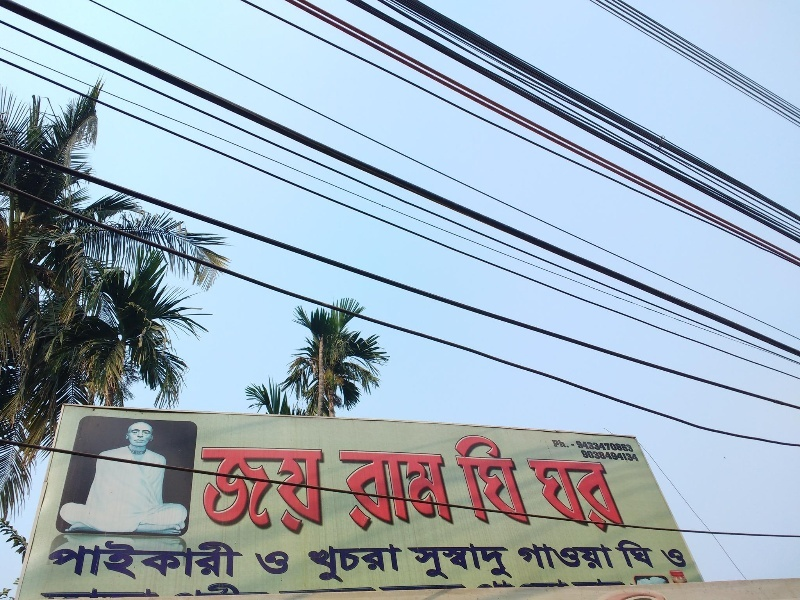text: (465, 434, 480, 526), (481, 434, 496, 526), (497, 434, 512, 526), (513, 434, 528, 526), (209, 446, 224, 536), (225, 446, 240, 536), (241, 446, 256, 536), (257, 446, 272, 536), (273, 446, 288, 536), (289, 446, 304, 536), (305, 446, 320, 536), (353, 451, 368, 532), (369, 451, 384, 532), (385, 451, 400, 532), (401, 451, 416, 532), (417, 451, 432, 532), (433, 451, 448, 532), (451, 434, 464, 526), (529, 457, 544, 536), (545, 457, 560, 536), (561, 457, 576, 536), (577, 457, 592, 536), (593, 457, 608, 536), (609, 457, 624, 536), (339, 451, 352, 532), (449, 451, 458, 532), (65, 537, 80, 581), (81, 537, 96, 581), (97, 537, 112, 581), (113, 537, 128, 581), (129, 537, 144, 581), (145, 537, 160, 581), (161, 537, 176, 581), (177, 537, 192, 581), (193, 537, 208, 581), (209, 537, 224, 581), (225, 537, 240, 581), (201, 446, 208, 536), (321, 544, 336, 583), (337, 544, 352, 583), (353, 544, 368, 583), (369, 544, 384, 583), (385, 544, 400, 583), (51, 537, 64, 581), (417, 543, 432, 581), (433, 543, 448, 581), (449, 543, 464, 581), (465, 543, 480, 581), (481, 543, 496, 581), (497, 543, 512, 581), (625, 457, 632, 536), (321, 446, 327, 536), (308, 544, 320, 583), (625, 539, 640, 570), (641, 539, 656, 570), (529, 434, 534, 526), (610, 539, 624, 570), (257, 549, 272, 576), (273, 549, 288, 576), (529, 543, 544, 570), (545, 543, 560, 570), (561, 543, 576, 570), (577, 543, 592, 570), (593, 543, 608, 570), (406, 543, 416, 581), (515, 543, 528, 570), (49, 577, 64, 600), (65, 577, 80, 600), (81, 577, 96, 600), (97, 577, 112, 600), (113, 577, 128, 600), (129, 577, 144, 600), (145, 577, 160, 600), (161, 577, 176, 600), (177, 577, 192, 600), (193, 577, 208, 600), (209, 577, 224, 600), (225, 577, 240, 600), (241, 577, 256, 600), (257, 577, 272, 600), (273, 577, 288, 600), (289, 577, 304, 600), (305, 577, 320, 600), (321, 577, 336, 600), (337, 577, 352, 600), (353, 577, 368, 600), (369, 577, 384, 600), (385, 577, 400, 600), (401, 577, 416, 600), (417, 577, 432, 600), (433, 577, 448, 600), (449, 577, 464, 600), (465, 577, 480, 600), (481, 577, 496, 600), (497, 577, 512, 600), (513, 577, 528, 600), (529, 577, 544, 600), (545, 577, 560, 600), (561, 577, 576, 600), (577, 577, 592, 600), (593, 577, 608, 600), (609, 577, 624, 600), (524, 457, 528, 536), (673, 549, 689, 568), (609, 543, 620, 570), (37, 577, 48, 600), (401, 544, 407, 583), (660, 549, 672, 568), (561, 438, 576, 449), (593, 451, 608, 462), (609, 451, 624, 462), (625, 451, 640, 462), (577, 442, 592, 452), (593, 442, 608, 452), (609, 442, 624, 452), (580, 451, 592, 462), (551, 438, 560, 449), (657, 539, 660, 570), (625, 442, 634, 452), (241, 537, 243, 581), (625, 577, 627, 600), (513, 543, 514, 581), (255, 549, 256, 576), (289, 549, 290, 576), (577, 438, 578, 449)
